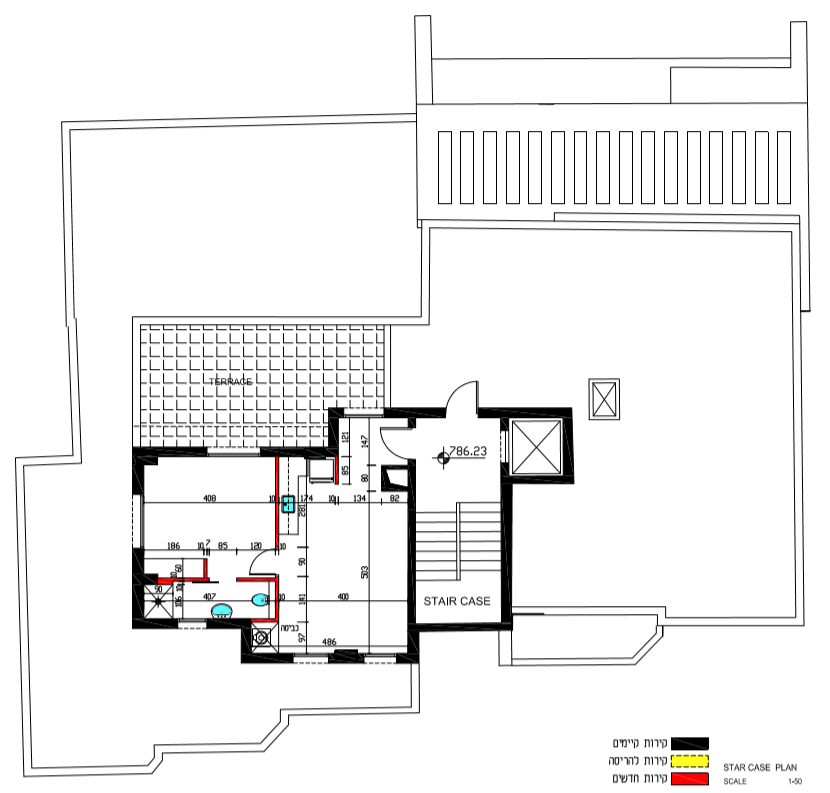door: (433, 373, 483, 407), (376, 422, 408, 464), (239, 546, 272, 576)
wall: (128, 439, 180, 486), (503, 471, 512, 633), (408, 494, 417, 656), (132, 551, 143, 625), (562, 410, 571, 482), (492, 408, 571, 416), (243, 653, 288, 664), (211, 617, 249, 629)
window: (201, 442, 274, 464)
